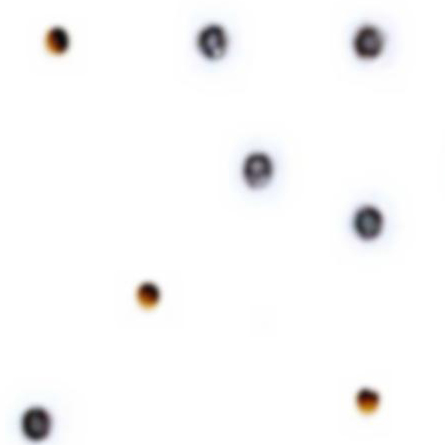cancer: (181, 12, 249, 80), (339, 9, 407, 70), (339, 195, 401, 253), (232, 143, 289, 201), (9, 388, 67, 444)
normal: (123, 262, 181, 325), (333, 375, 391, 427), (31, 16, 76, 79)
